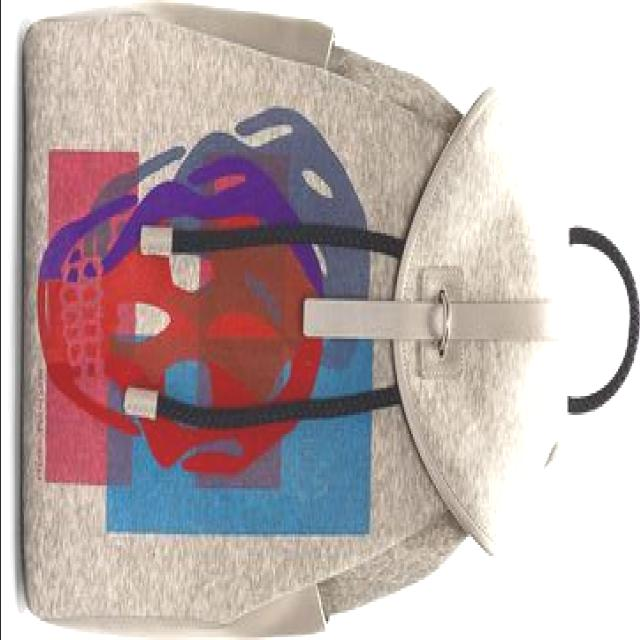backpack: (21, 1, 640, 638)
